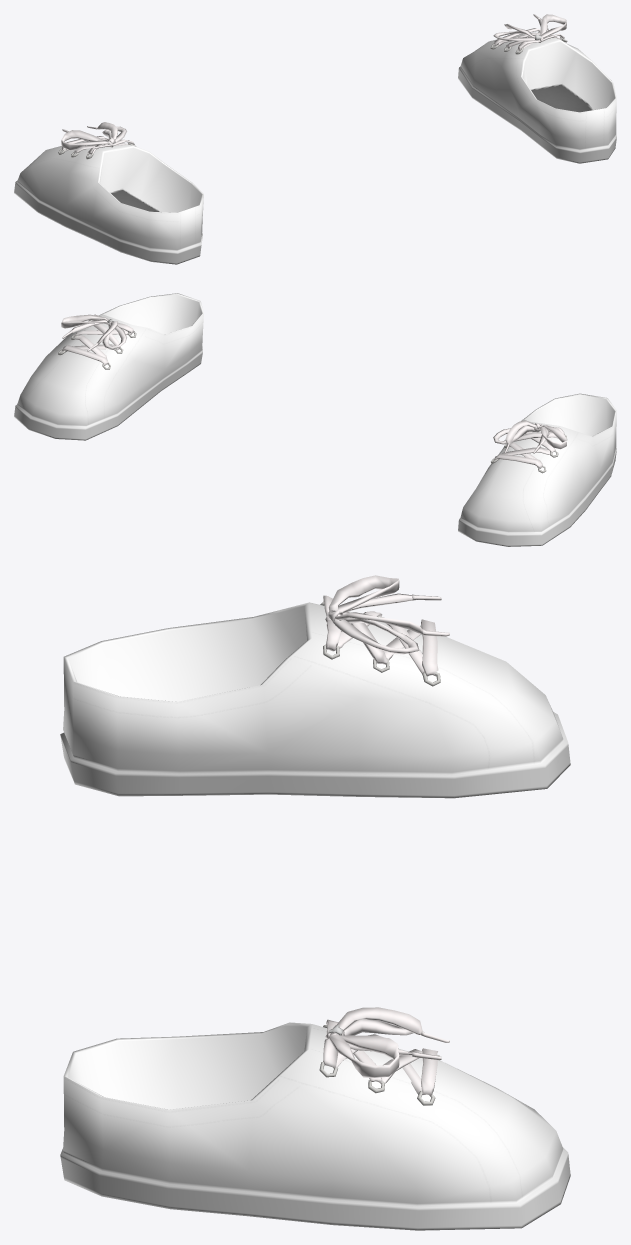
3 views of the same model, one above another, from view 1: azimuth 30°, elevation 25°; view 2: azimuth 150°, elevation 25°; view 3: azimuth 270°, elevation 25° (orthographic). The views are drawn at different scales.
Visible parts, largest first — view 1: geometry_0; view 2: geometry_0; view 3: geometry_0.
Part boxes in pixels (box(x1,y1,x2,y2)): geometry_0: box(14, 14, 616, 264); geometry_0: box(14, 293, 616, 546); geometry_0: box(60, 575, 570, 1230).
Size of the model in its own units: 1.65 by 0.2365 by 0.6847.
Materials: 1 (1 with a texture image).
